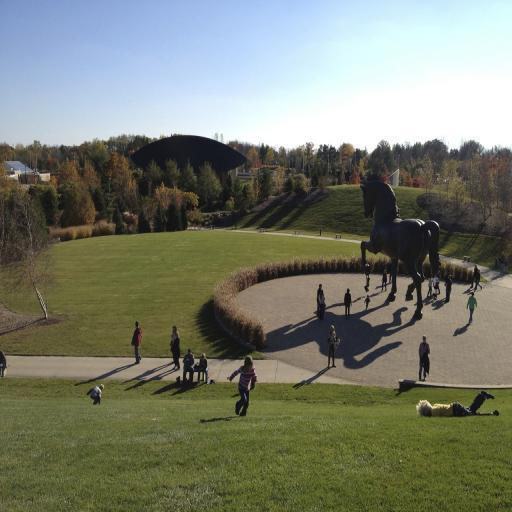horse: (359, 178, 442, 319)
